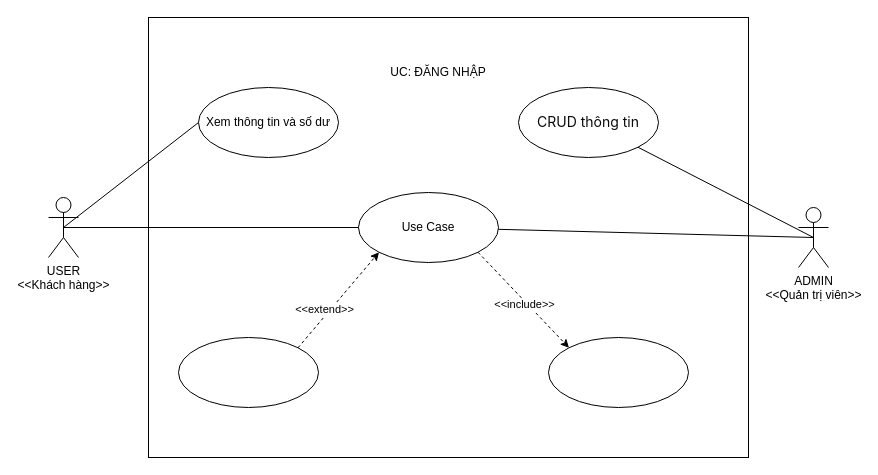
This 878x475 diagram has some shape labels left out. Each missing label, with the centre of its shape:
"Quên mật khẩu" belongs at [248,372].
"Xác thực thông tin" belongs at [618,372].
